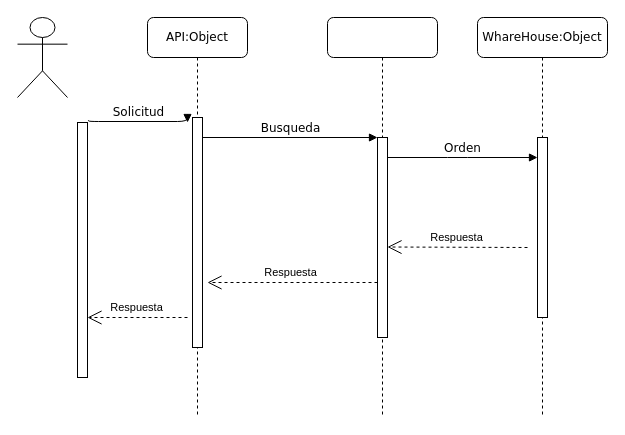
The diagram is 625 pixels wide and 435 high, and some of its shapes have lost their labels. Each missing label, with the box of its shape:
DataBase:Object: (326, 16, 438, 418)
Usuario: (16, 16, 68, 98)
